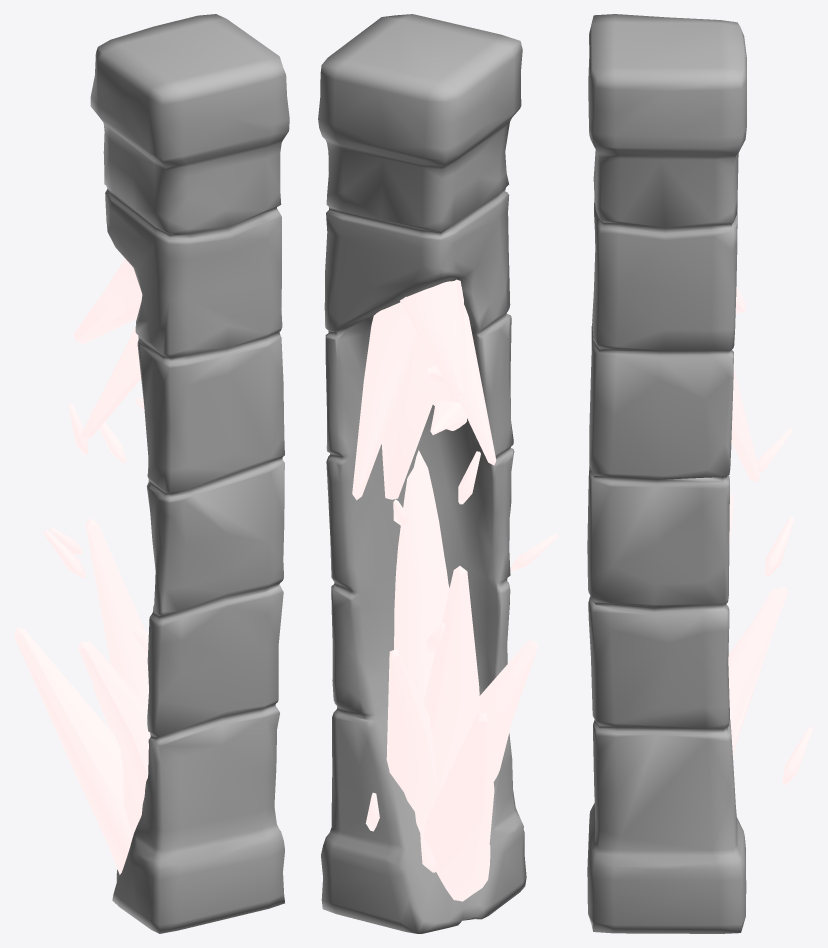
Rendered from bloodstone_impacted_pillar.glb.
The picture shows the model from 3 angles, left to right: view 1: azimuth 30°, elevation 25°; view 2: azimuth 150°, elevation 25°; view 3: azimuth 270°, elevation 25°; orthographic projection. The views are drawn at different scales.
Visible parts, largest first — view 1: ColumnMultires.001, Bloodstone, Bloodstone.004, Bloodstone.002, Bloodstone.007, Bloodstone.005, BloodstoneSmall; view 2: ColumnMultires.001, Bloodstone.003, Bloodstone, Bloodstone.004, Bloodstone.006, Bloodstone.001, Bloodstone.007, Bloodstone.008, Bloodstone.002, Bloodstone.005, Bloodstone.009, Bloodstone.010 (+2 smaller); view 3: ColumnMultires.001, Bloodstone.001, Bloodstone.006, BloodstoneSmall, BloodstoneSmall.004, Bloodstone.
Part boxes in pixels (box(x1,y1,x2,y2)): ColumnMultires.001: box(90, 14, 289, 933); Bloodstone: box(14, 627, 132, 874); Bloodstone.004: box(85, 518, 148, 836); Bloodstone.002: box(78, 641, 150, 803); Bloodstone.007: box(73, 258, 142, 344); Bloodstone.005: box(81, 327, 141, 438); BloodstoneSmall: box(43, 530, 86, 578); ColumnMultires.001: box(318, 14, 526, 933); Bloodstone.003: box(394, 450, 449, 872); Bloodstone: box(424, 712, 494, 901); Bloodstone.004: box(415, 566, 480, 832); Bloodstone.006: box(352, 302, 417, 500); Bloodstone.001: box(386, 649, 436, 811); Bloodstone.007: box(400, 279, 466, 395); Bloodstone.008: box(381, 336, 436, 499); Bloodstone.002: box(479, 640, 538, 781); Bloodstone.005: box(456, 305, 496, 465); Bloodstone.009: box(430, 401, 466, 434); Bloodstone.010: box(425, 364, 459, 405); ColumnMultires.001: box(587, 14, 746, 933); Bloodstone.001: box(728, 586, 788, 739); Bloodstone.006: box(731, 366, 760, 481); BloodstoneSmall: box(764, 517, 794, 576); BloodstoneSmall.004: box(782, 726, 813, 784); Bloodstone: box(732, 589, 776, 754).
Size of the model in its own units: 0.7708 by 2.99 by 0.7133.
